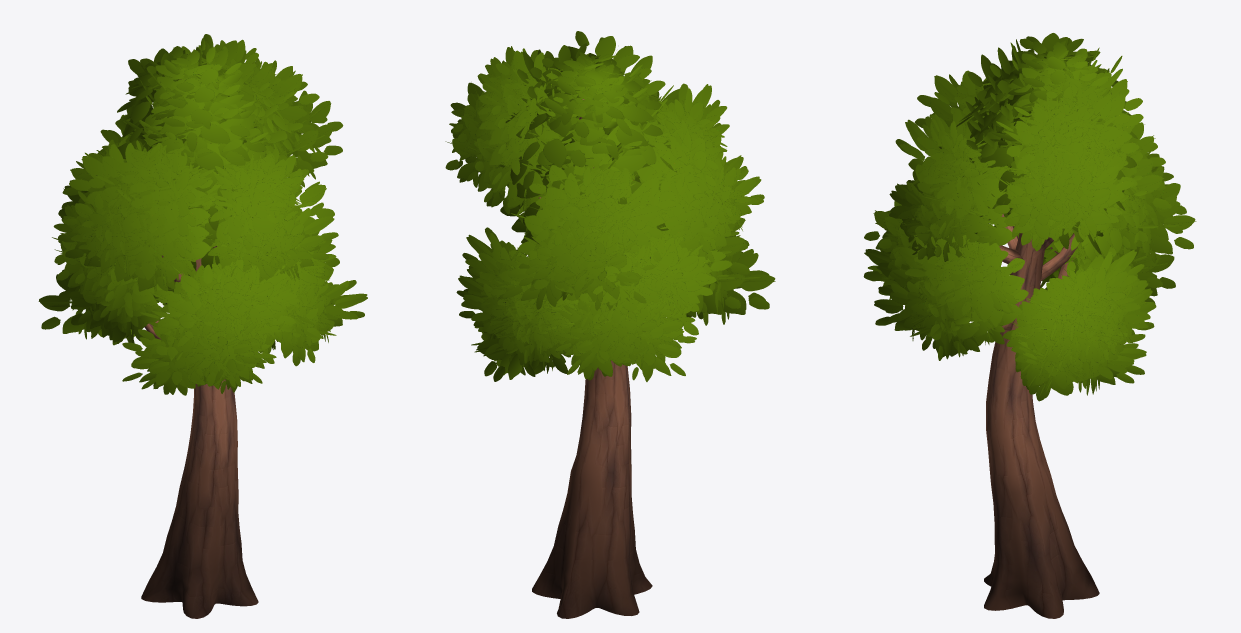
The picture shows the model from 3 angles, left to right: view 1: azimuth 30°, elevation 25°; view 2: azimuth 150°, elevation 25°; view 3: azimuth 270°, elevation 25°; orthographic projection. The views are drawn at different scales.
Visible parts, largest first — view 1: CommonTree_1; view 2: CommonTree_1; view 3: CommonTree_1.
Part boxes in pixels (<box>): CommonTree_1: <box>38,34,367,618</box>; CommonTree_1: <box>445,31,775,618</box>; CommonTree_1: <box>863,33,1196,618</box>.
Size of the model in its own units: 4.31 by 7.26 by 4.58.
Materials: 2 (2 with a texture image).
